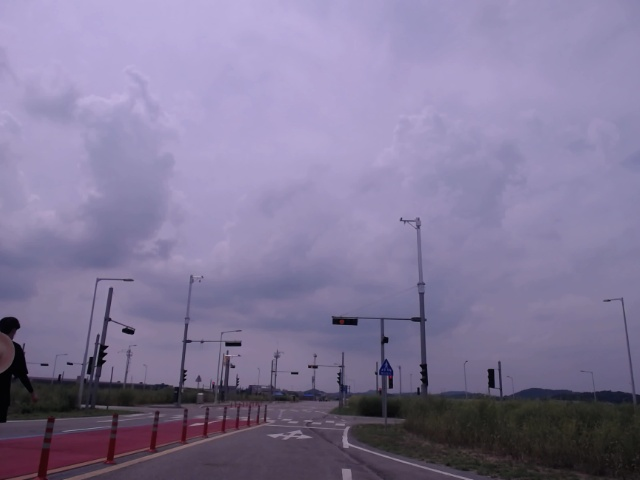orange_4: (329, 315, 360, 329), (307, 363, 320, 370)
